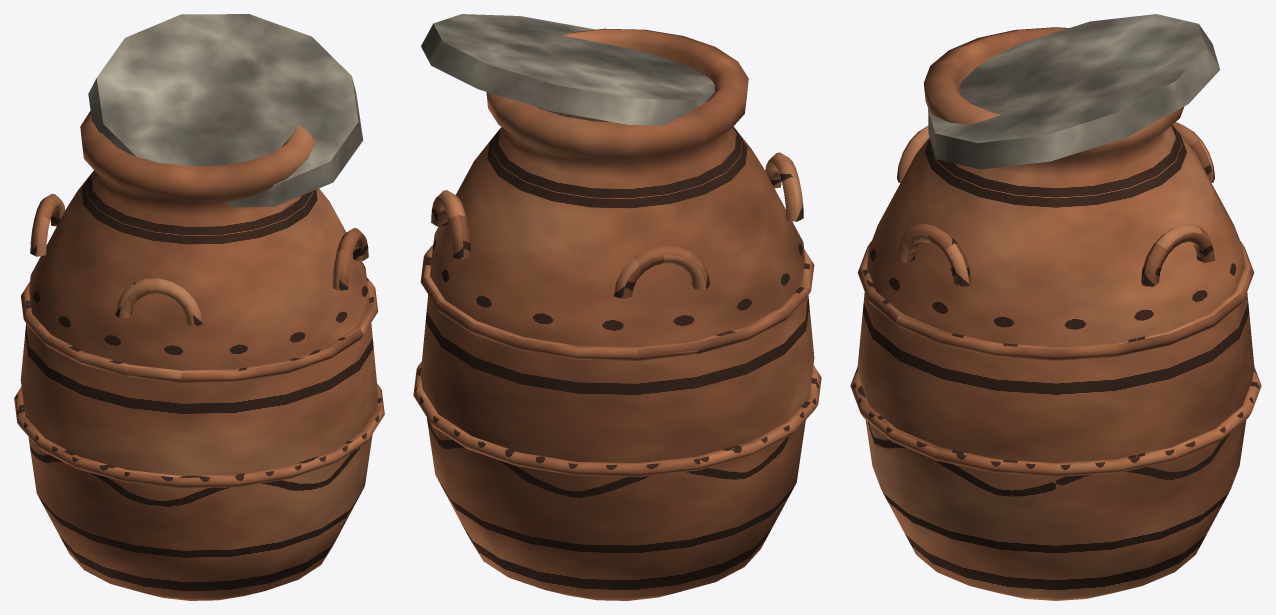
The model's file is pithos_medio_coperchio.gltf.
3 views of the same model, side by side, from view 1: azimuth 30°, elevation 25°; view 2: azimuth 150°, elevation 25°; view 3: azimuth 270°, elevation 25° (orthographic). The views are drawn at different scales.
Visible parts, largest first — view 1: pithos_medio_coperchio; view 2: pithos_medio_coperchio; view 3: pithos_medio_coperchio.
Part boxes in pixels (x1,y1,x2,y2): pithos_medio_coperchio: [14, 14, 384, 600]; pithos_medio_coperchio: [413, 14, 821, 600]; pithos_medio_coperchio: [850, 14, 1261, 600].
Bounding box in the file's own units: 0.7392 × 1.07 × 0.7392.
Materials: 3 (3 with a texture image).
